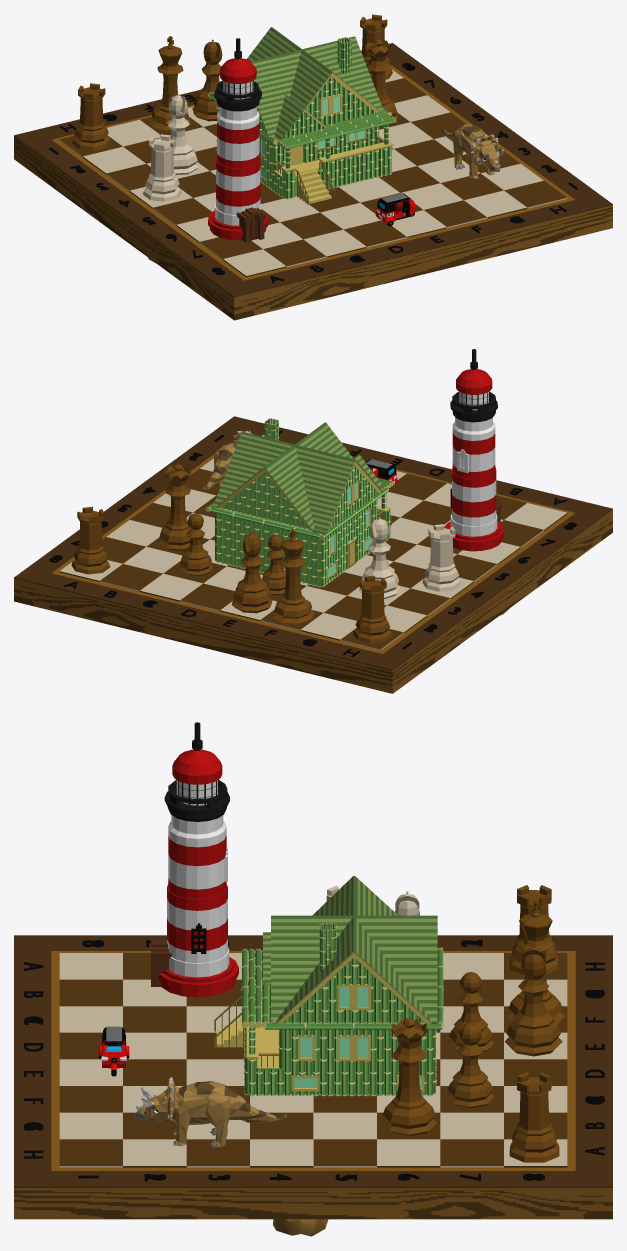
3 views of the same model, one above another, from view 1: azimuth 30°, elevation 25°; view 2: azimuth 150°, elevation 25°; view 3: azimuth 270°, elevation 25° (orthographic). The views are drawn at different scales.
Parts seen in each view (by area): view 1: Cube.002, Cube.1327, OBJRANDOM_LIGHTHOUSE, ANIMAL_Triceratops, VEHICLES_TUC_TUC; view 2: Cube.002, Cube.1327, OBJRANDOM_LIGHTHOUSE, ANIMAL_Triceratops, VEHICLES_TUC_TUC; view 3: Cube.002, Cube.1327, OBJRANDOM_LIGHTHOUSE, ANIMAL_Triceratops, VEHICLES_TUC_TUC, UNDERGROUND_T_REX_BONES.
Boxes of the visible parts, x1,y1,x2,y2 form: Cube.002: [14, 14, 612, 320]; Cube.1327: [208, 27, 396, 204]; OBJRANDOM_LIGHTHOUSE: [208, 38, 268, 243]; ANIMAL_Triceratops: [442, 123, 503, 179]; VEHICLES_TUC_TUC: [375, 193, 416, 226]; Cube.002: [14, 416, 612, 693]; Cube.1327: [205, 418, 393, 587]; OBJRANDOM_LIGHTHOUSE: [444, 349, 504, 551]; ANIMAL_Triceratops: [203, 430, 264, 489]; VEHICLES_TUC_TUC: [365, 459, 397, 488]; Cube.002: [14, 885, 612, 1219]; Cube.1327: [214, 876, 443, 1096]; OBJRANDOM_LIGHTHOUSE: [151, 722, 238, 997]; ANIMAL_Triceratops: [134, 1077, 286, 1147]; VEHICLES_TUC_TUC: [98, 1026, 129, 1076]; UNDERGROUND_T_REX_BONES: [273, 1219, 328, 1236].
Bounding box in the file's own units: 3981 × 2349 × 4012.
39 materials, 3 textured.
